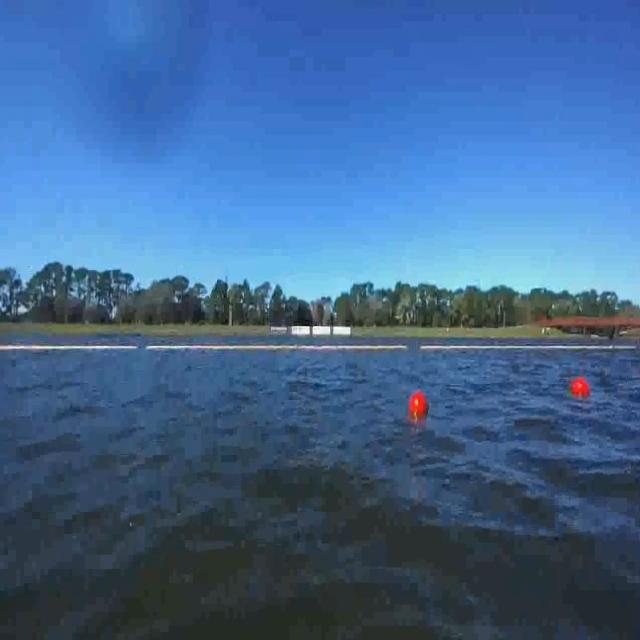red-buoy: (410, 394, 429, 421), (570, 376, 589, 398)
